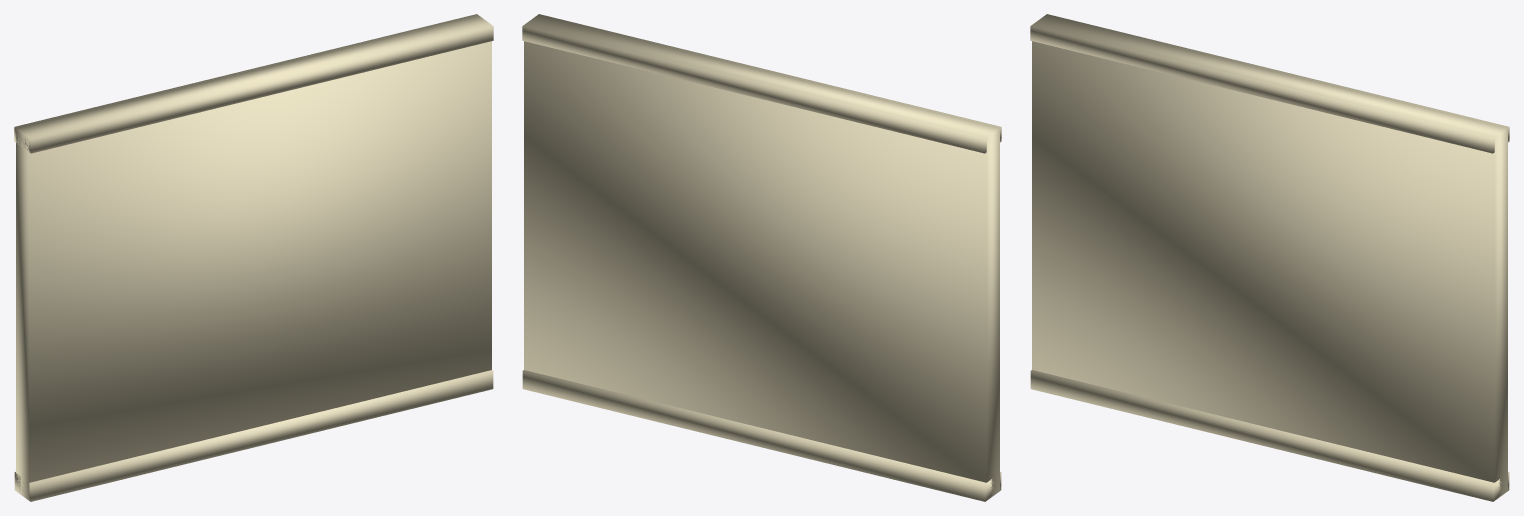
File: SM_Wall_Modular_400x300.fbx
3 views of the same model, side by side, from view 1: azimuth 30°, elevation 25°; view 2: azimuth 150°, elevation 25°; view 3: azimuth 330°, elevation 25° (orthographic).
Visible parts, largest first — view 1: Cube; view 2: Cube; view 3: Cube.
Part boxes in pixels (box(x1,y1,x2,y2)): Cube: box(14, 14, 493, 501); Cube: box(522, 14, 1001, 501); Cube: box(1030, 14, 1509, 501).
Size of the model in its own units: 400 by 300 by 25.
